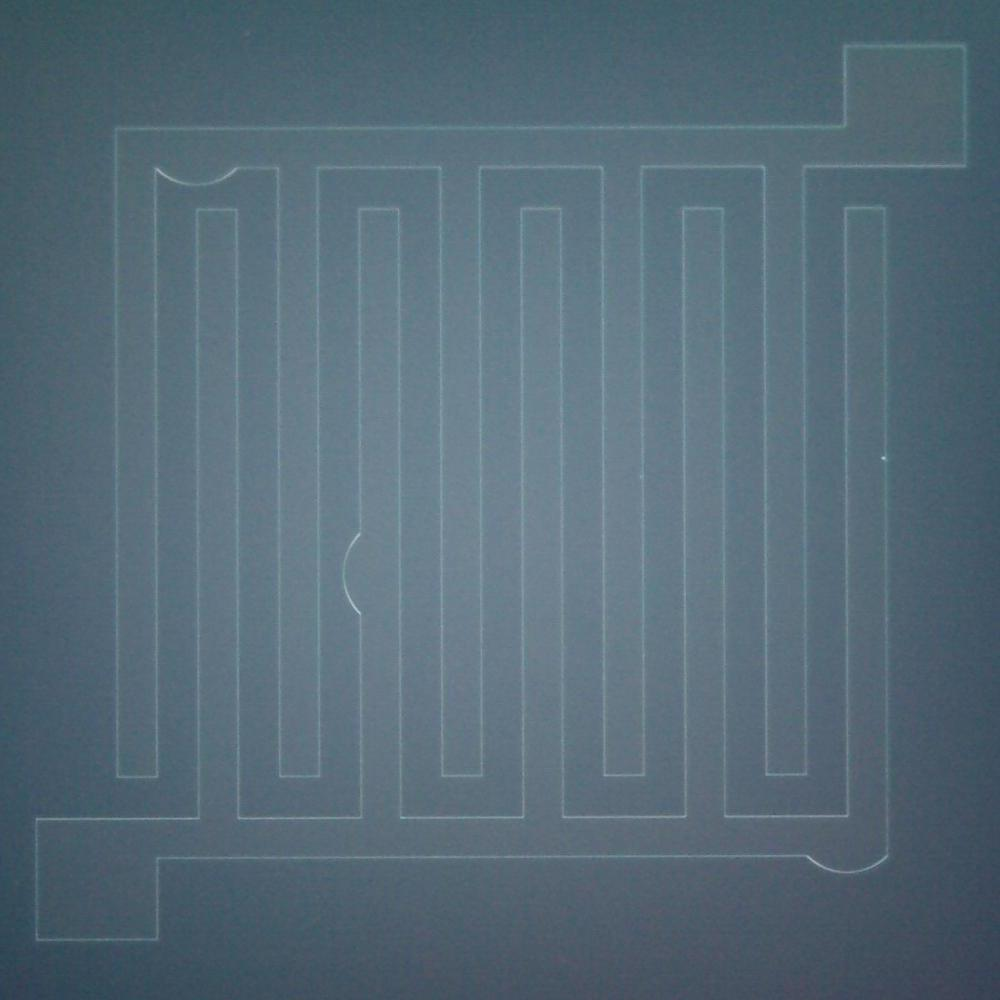curve circuit: (789, 838, 890, 888), (332, 518, 377, 628), (145, 156, 253, 190)
